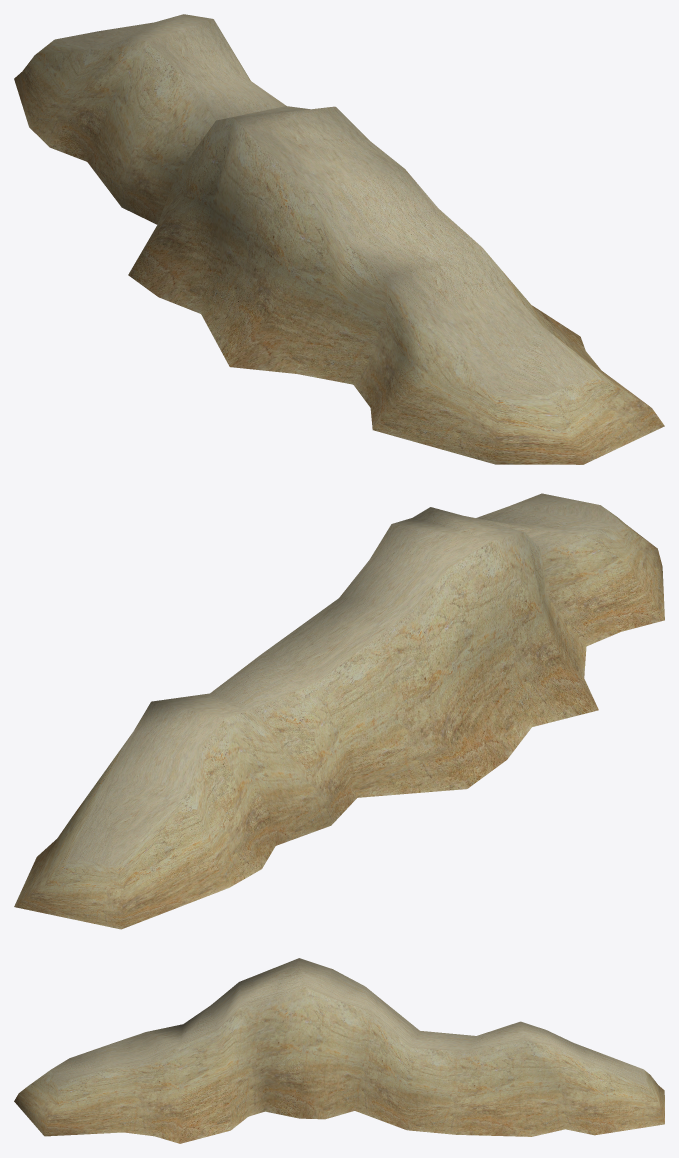
File: rock_beach_spine_a2_l2.fbx
3 views of the same model, one above another, from view 1: azimuth 30°, elevation 25°; view 2: azimuth 150°, elevation 25°; view 3: azimuth 270°, elevation 25° (orthographic). The views are drawn at different scales.
Visible parts, largest first — view 1: mesh_node; view 2: mesh_node; view 3: mesh_node.
Part boxes in pixels (x1,y1,x2,y2): mesh_node: (14,14,664,464); mesh_node: (14,493,664,929); mesh_node: (14,958,664,1143).
Size of the model in its own units: 5.49 by 3.38 by 17.11.
